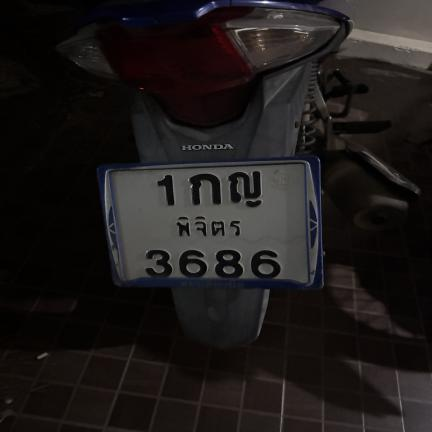1: (150, 172, 178, 207)
3: (138, 246, 174, 277)
6: (248, 247, 284, 280), (178, 246, 210, 278)
8: (213, 246, 245, 279)
A01: (184, 172, 224, 207)
A13: (227, 171, 266, 208)
PCT: (162, 213, 250, 240)
